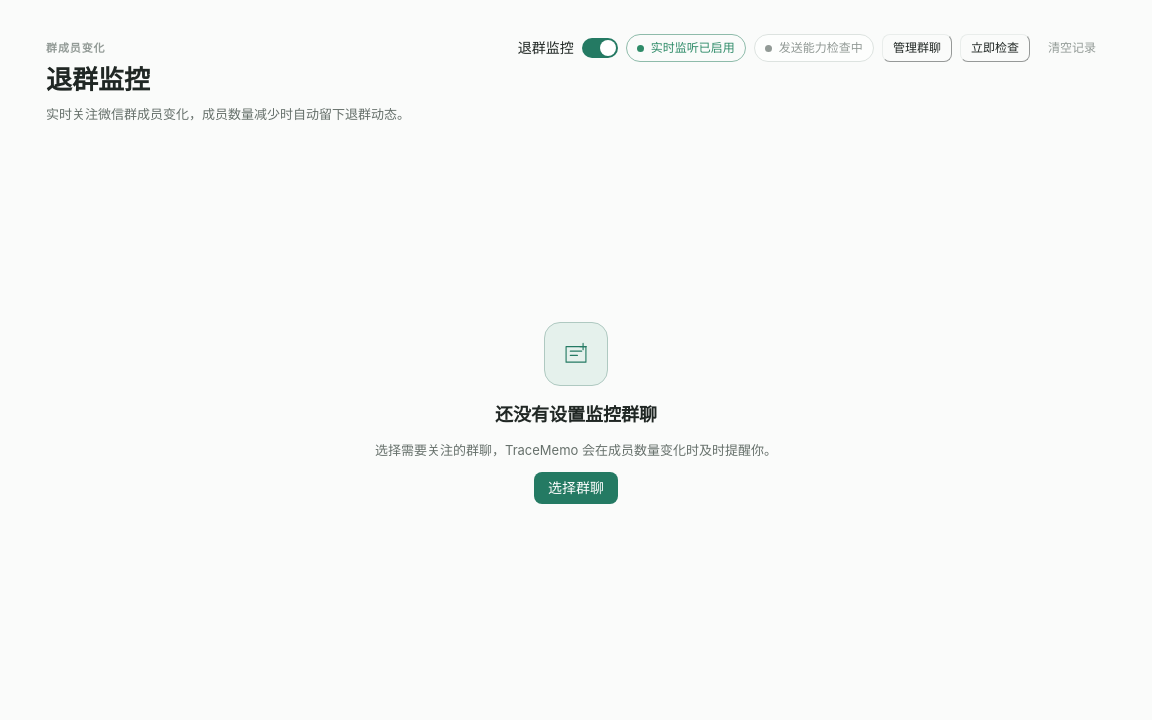
GroupExitMonitorWorkspace › opens the management view, selects a group, and saves the monitoring scope
The image size is (1152, 720).
Expected: the heading "还没有设置监控群聊" is shown, [495,402,657,428]
Click the button "选择群聊": x=576, y=488 [534,472,618,504]
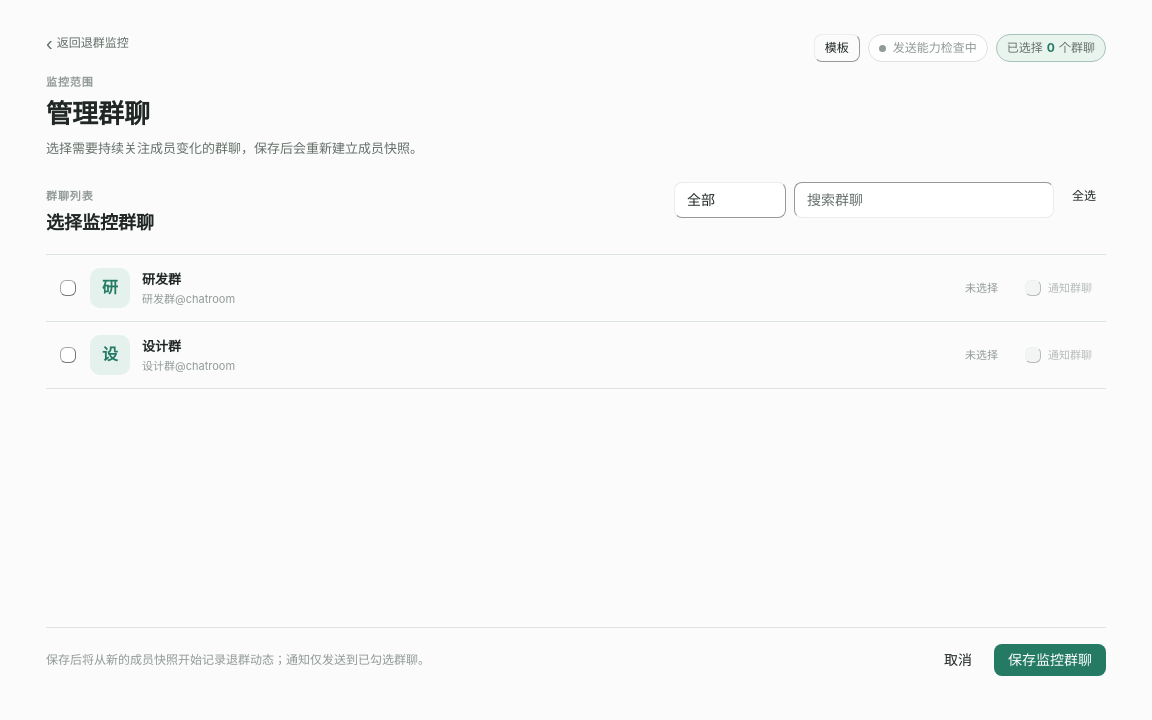
Expected: the heading "管理群聊" is shown, [46,98,150,129]
Click the checkbox named "监控研发群": x=68, y=288 [60,280,76,296]
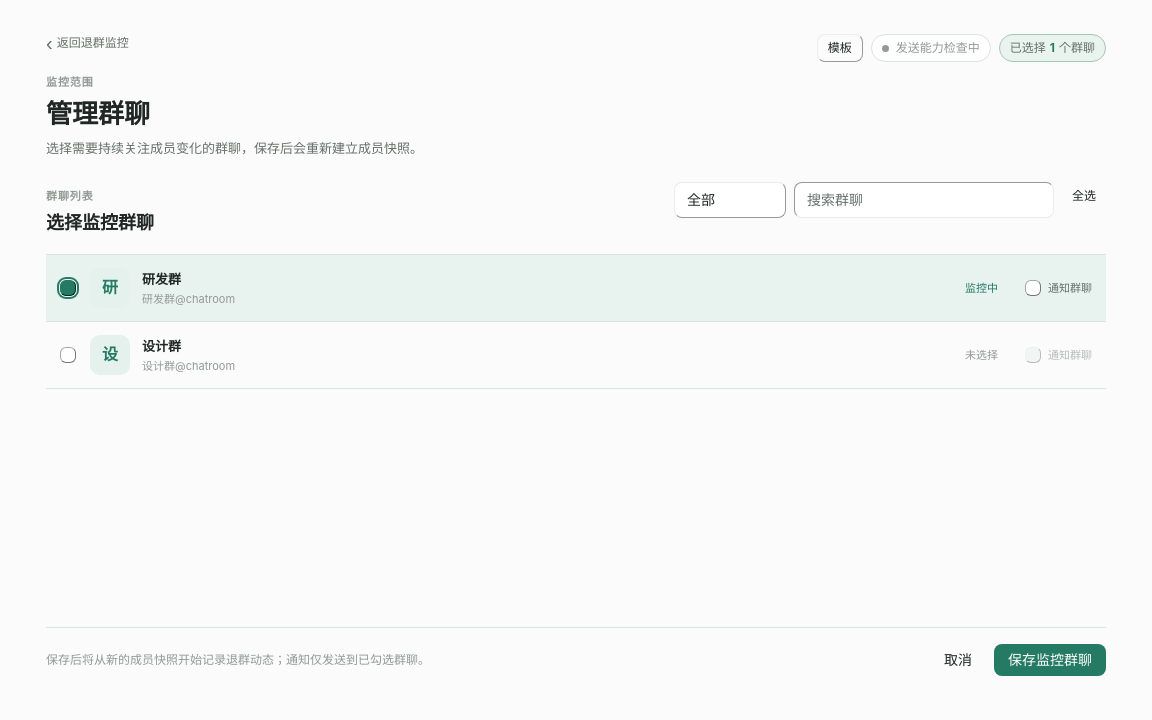
Click the button "保存监控群聊": x=1050, y=660 [994,644,1106,676]
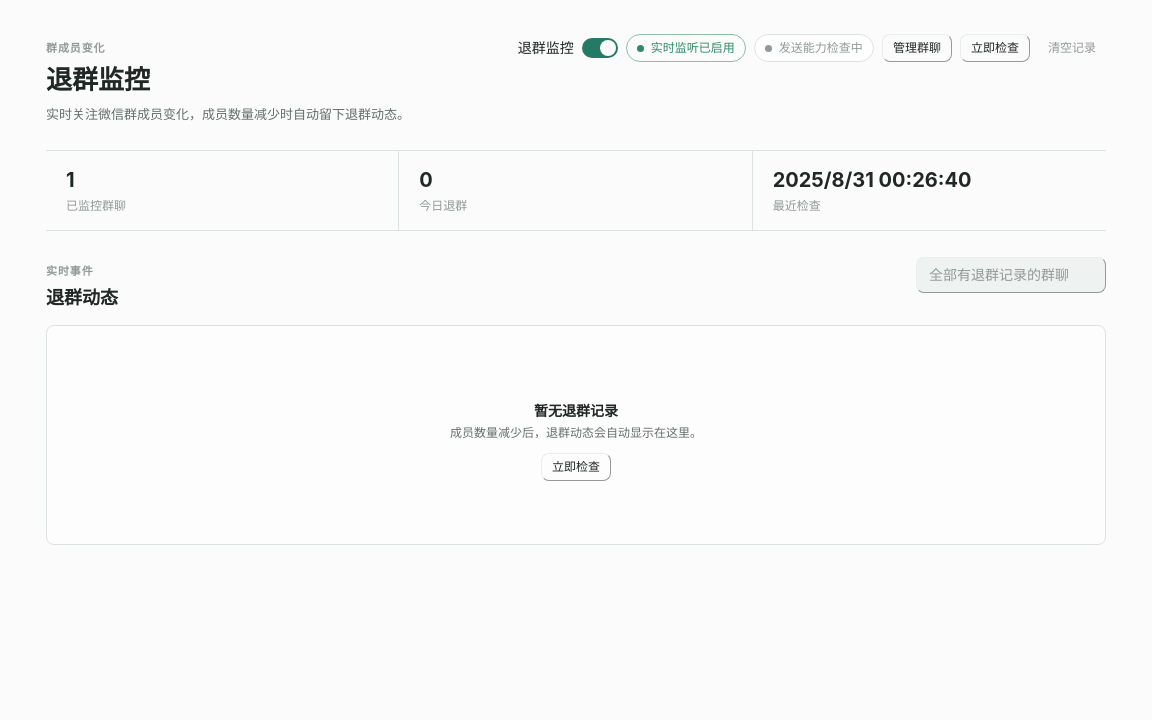
Expected: the heading "退群监控" is shown, [46,64,150,95]
Expected: the text "已监控群聊" is shown, [66,198,126,213]
